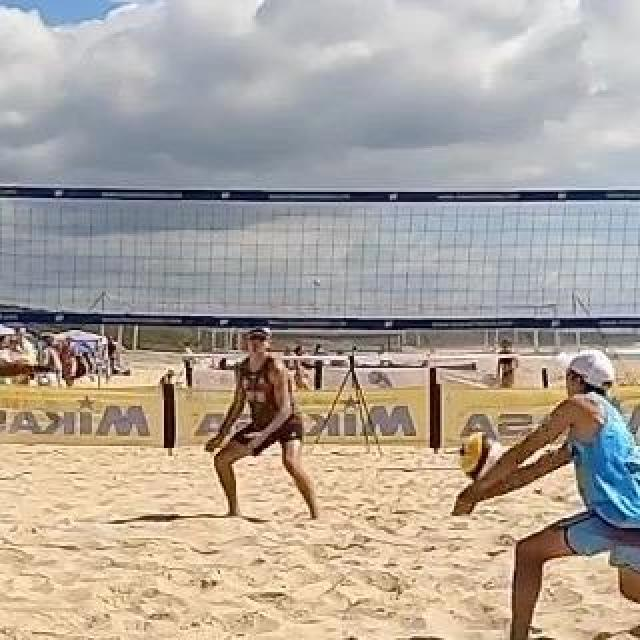volleyball: (458, 434, 506, 480)
